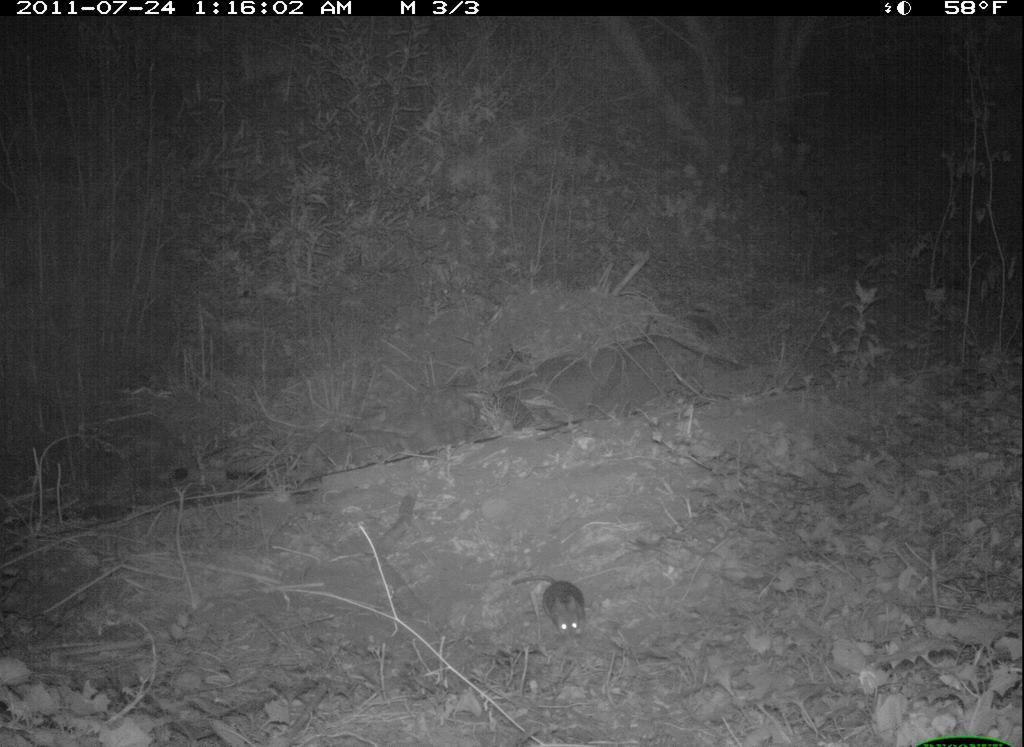rodent: (506, 566, 610, 671)
